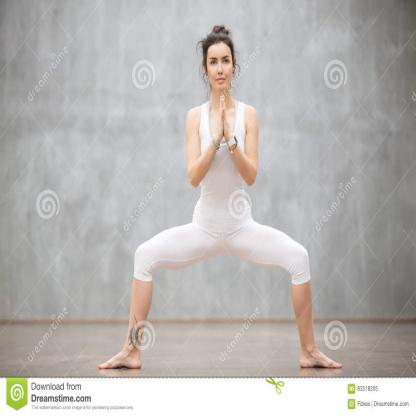godness: (90, 16, 355, 376)
